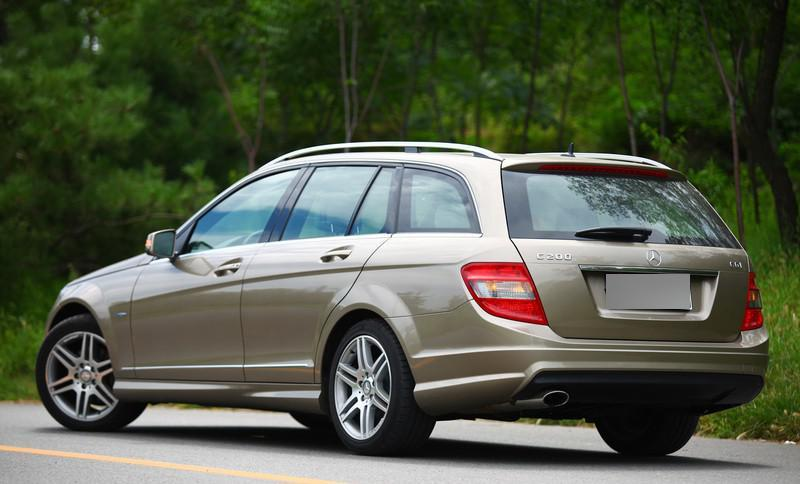Wagon: (34, 140, 771, 457)
